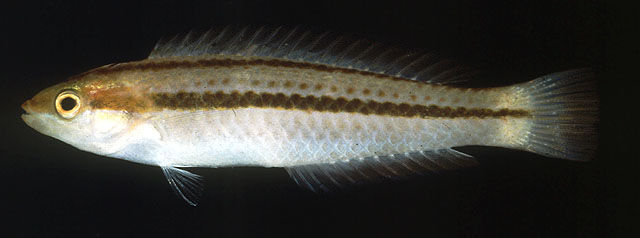fish: (20, 25, 598, 206)
